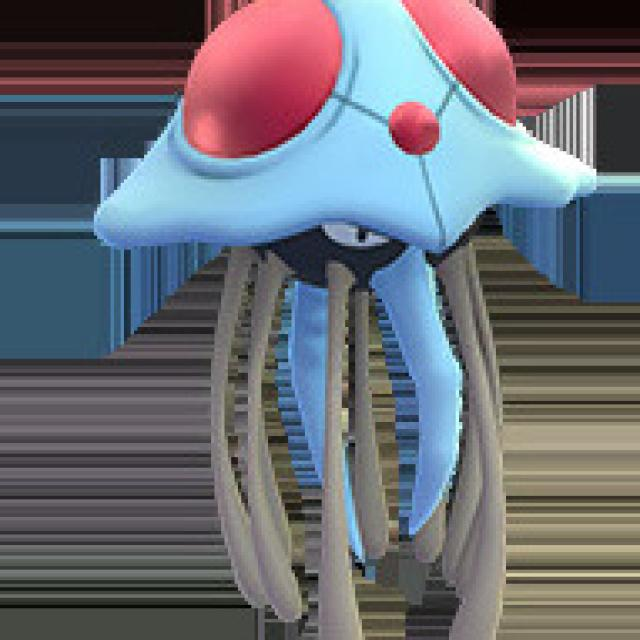Tentacruel: (145, 0, 557, 472)
